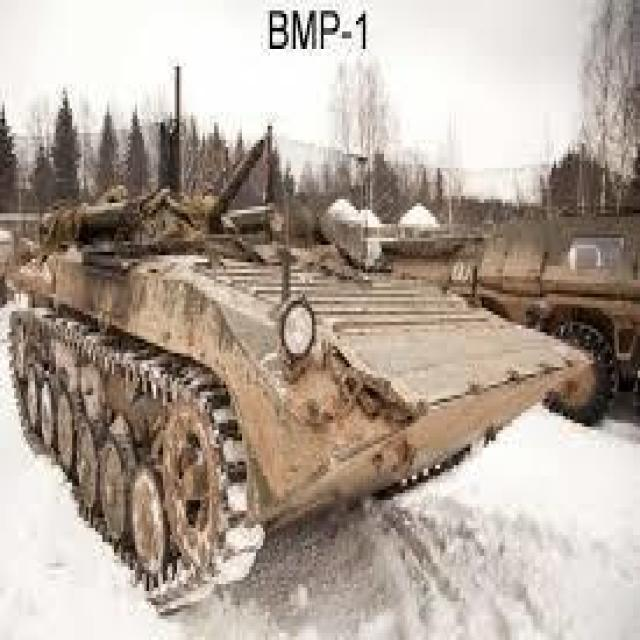Tanks: (14, 177, 593, 554), (494, 213, 636, 406)
